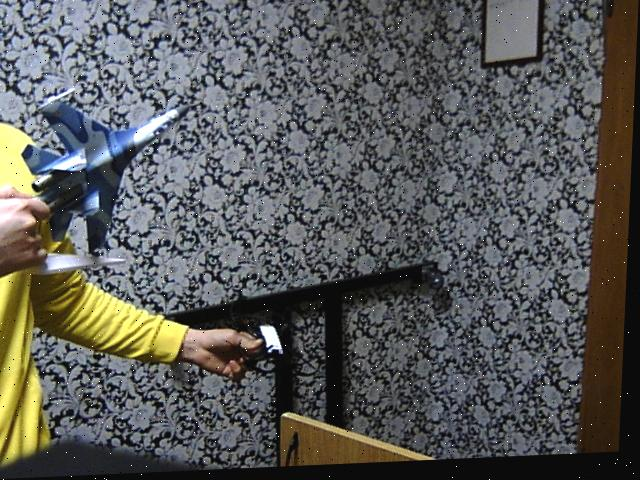drone: (220, 270, 338, 387)
